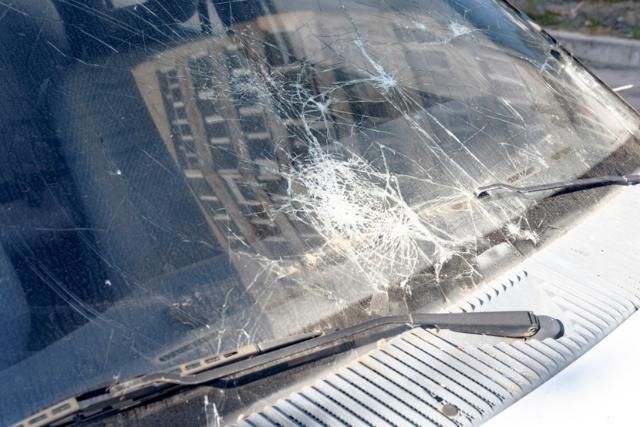Windshield: (0, 0, 640, 358)
